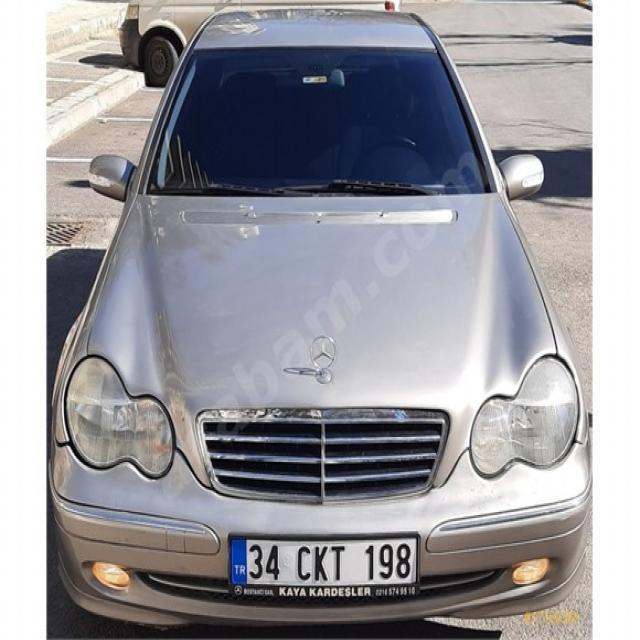plate: (228, 531, 421, 604)
